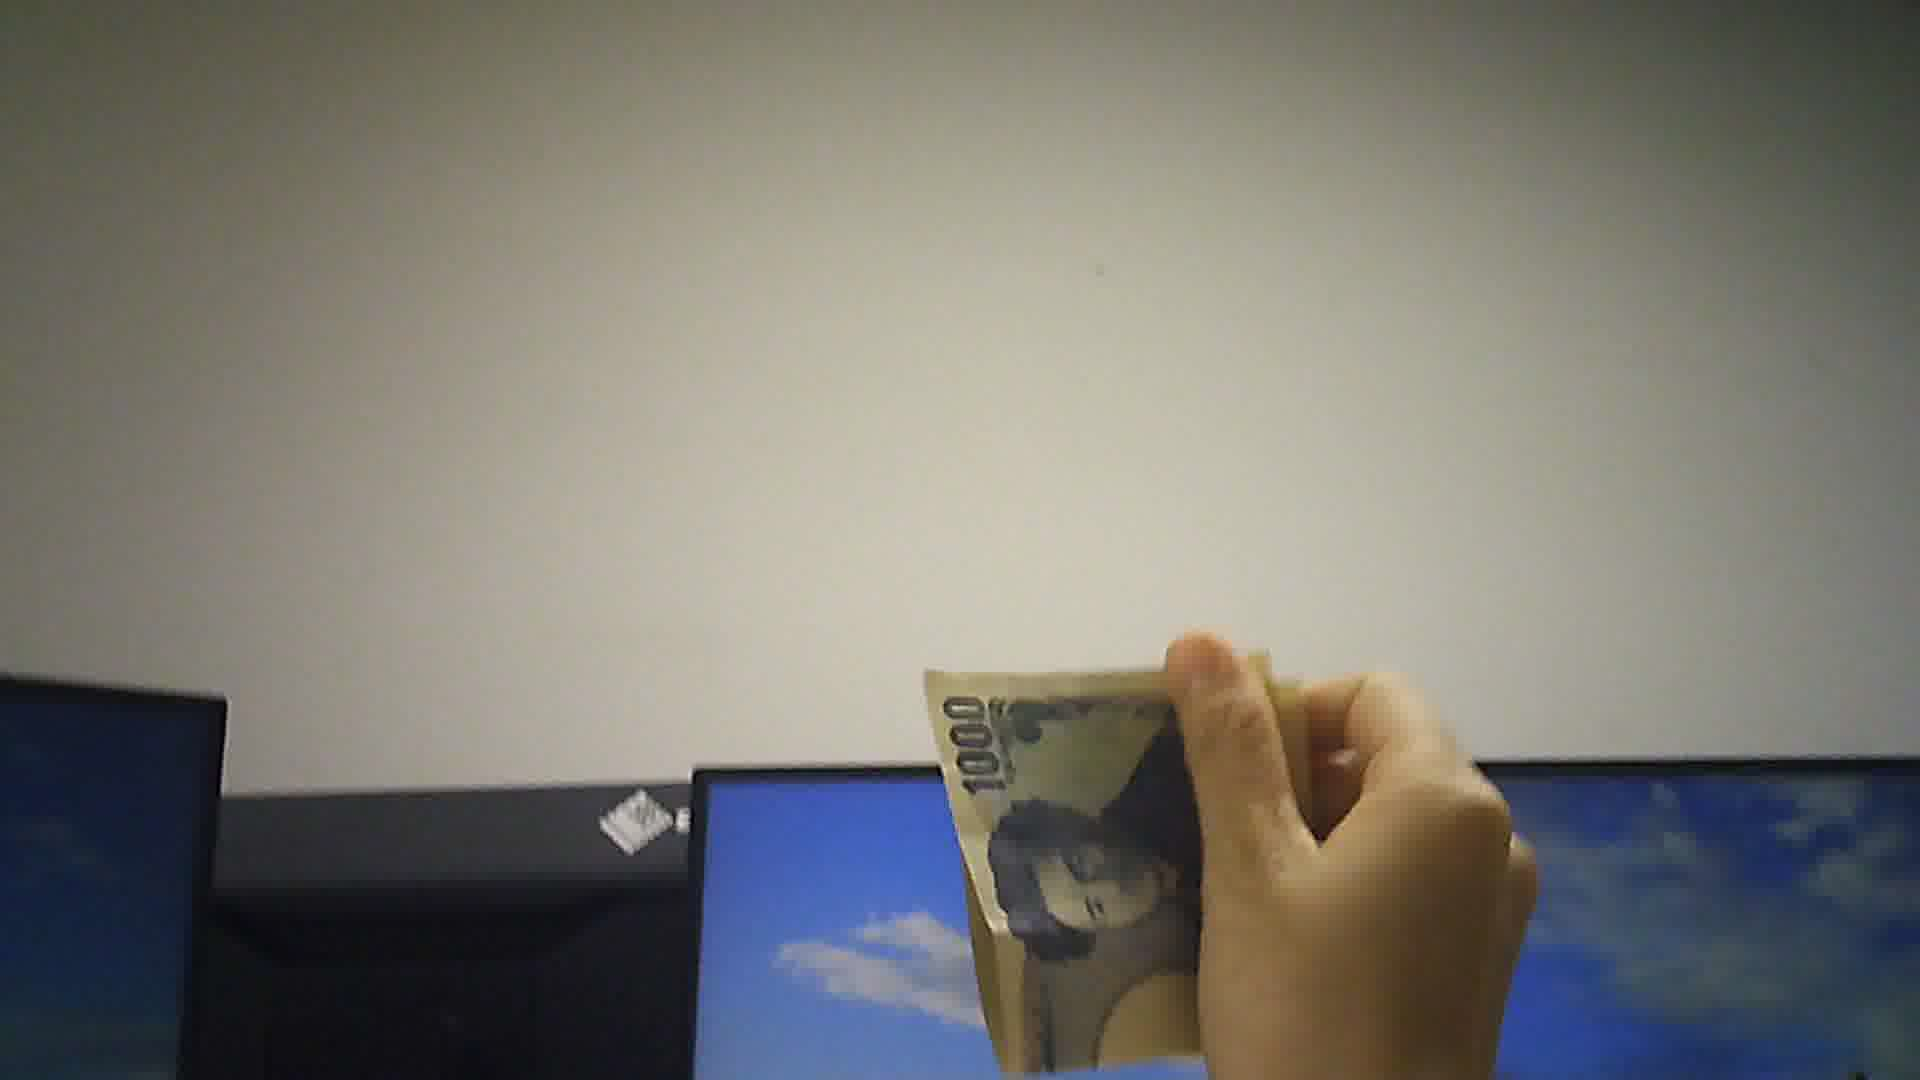1,000 Yen: (909, 651, 1305, 1079)
